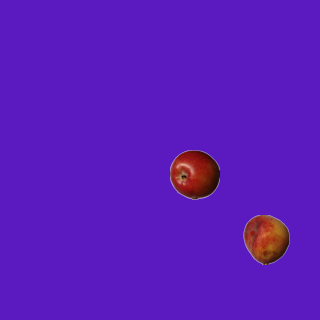Apple Braeburn: (169, 149, 219, 199)
Peach: (241, 214, 291, 264)
